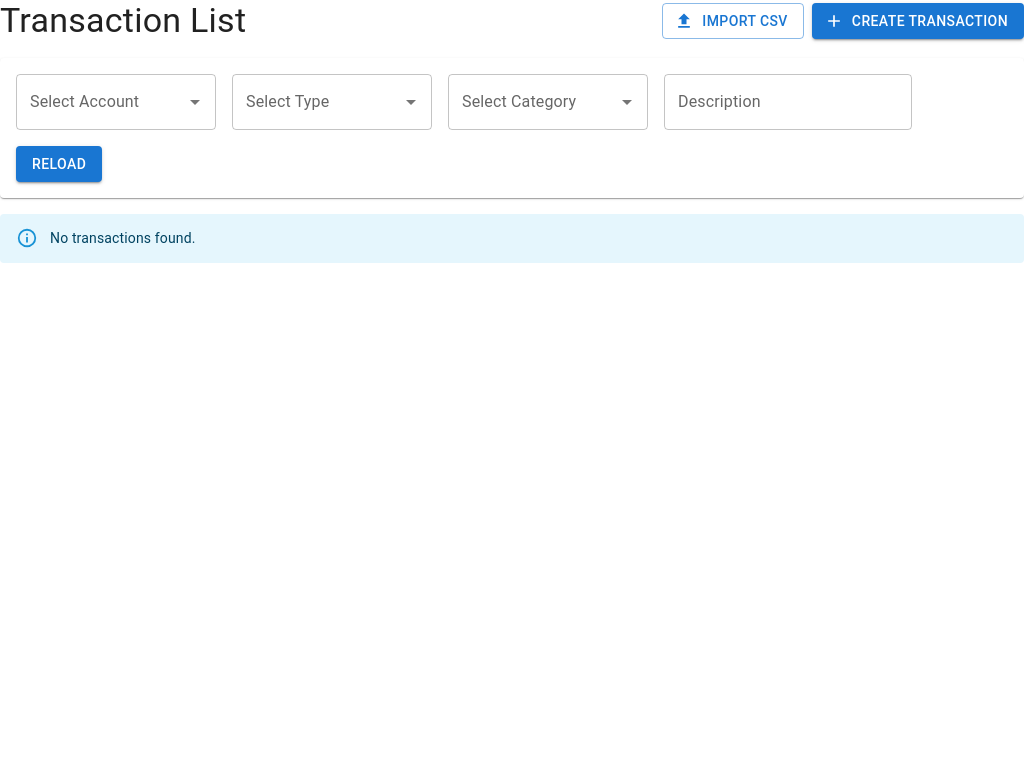
Test: TransactionList › opens the ImportDialog when Import CSV button is clicked
Click the button "Import CSV". click: click(733, 21)
box: [662,3,804,39]
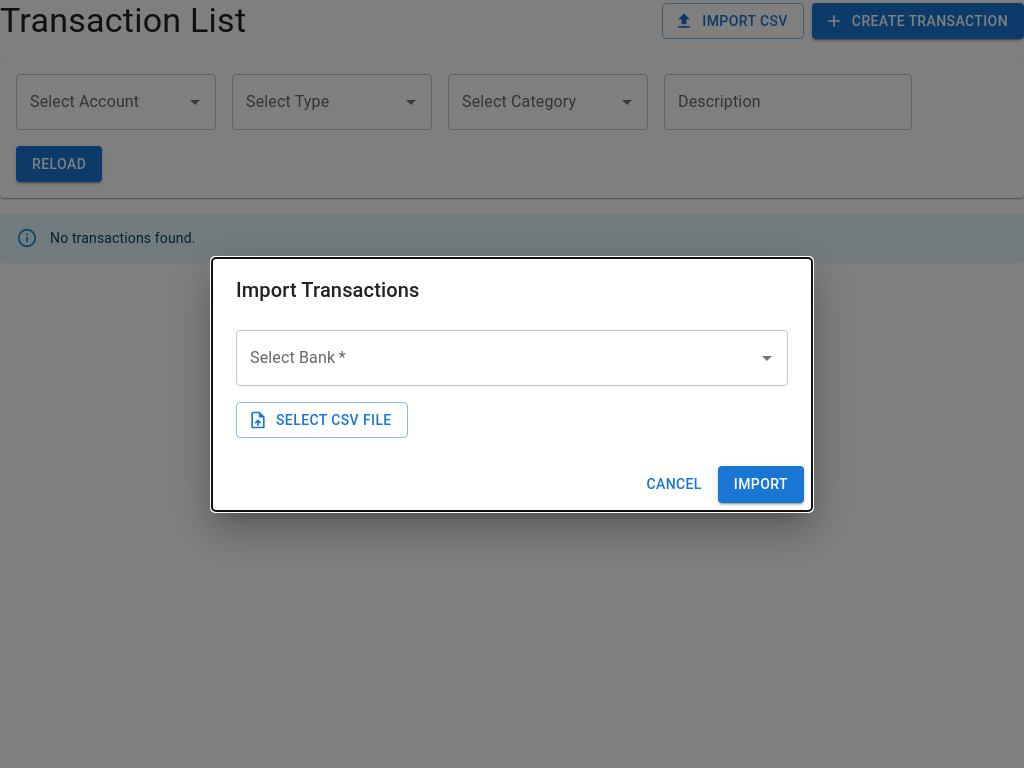
Check: the dialog is shown, box [212,258,812,510]
Check: the heading "Import Transactions" is shown, box [236,278,420,302]
